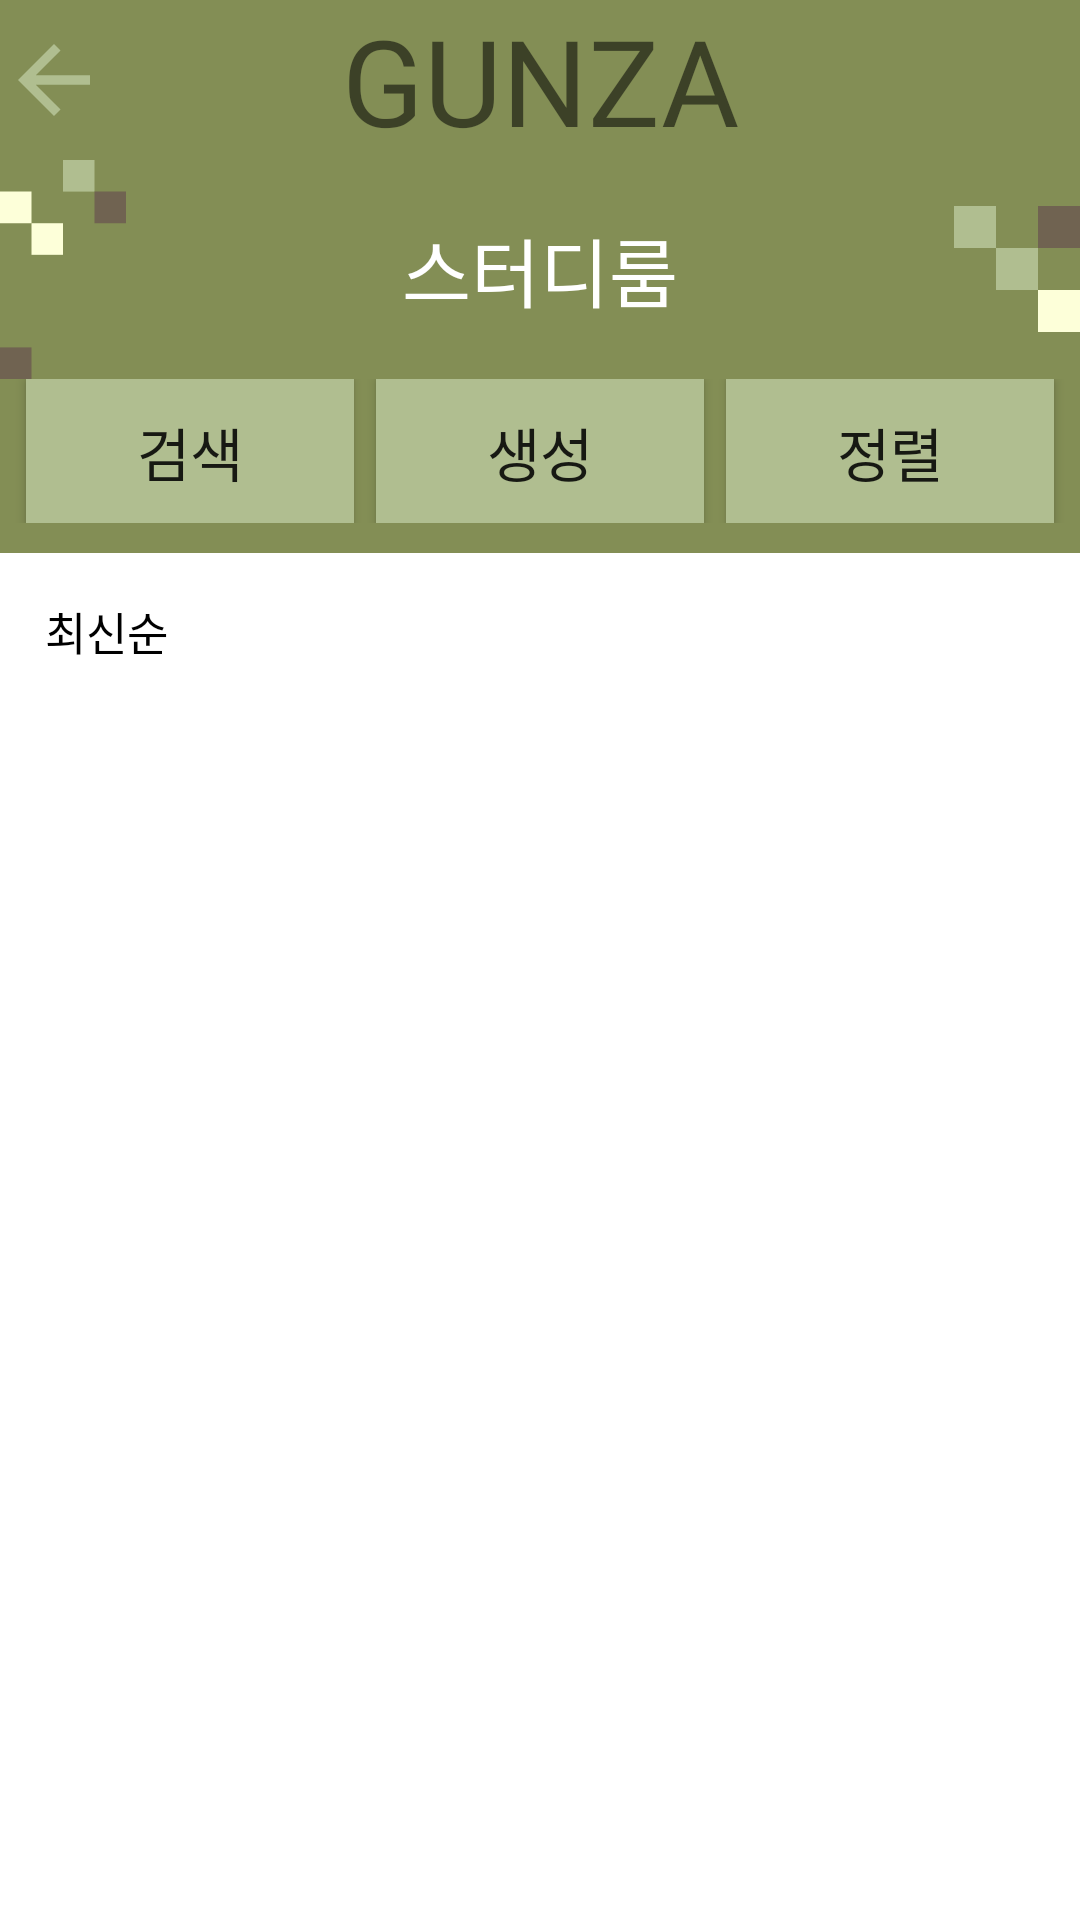

Point at icon controls on the screen. Image size 1080 × 1920, points as [x,y].
back: [54,80]
